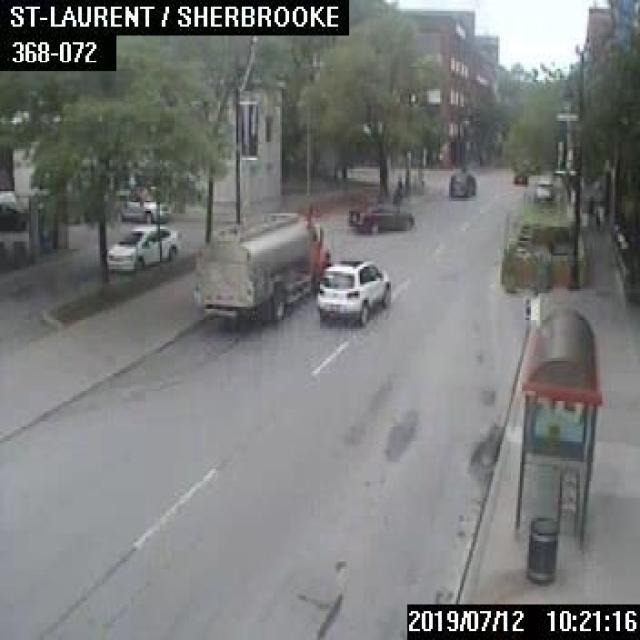pedestrian: (593, 188, 606, 230)
vehicle: (198, 208, 330, 322), (315, 258, 390, 326), (105, 222, 180, 270), (345, 200, 413, 233), (114, 189, 168, 221), (447, 169, 475, 195), (532, 178, 553, 202), (512, 169, 526, 184)
